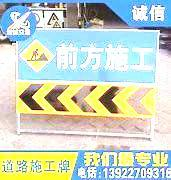sign: (16, 29, 156, 118)
